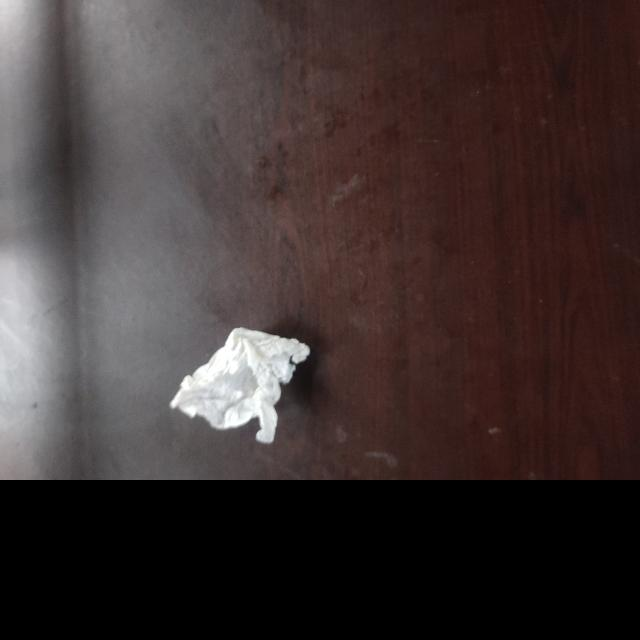kitchen paper: (162, 317, 318, 453)
